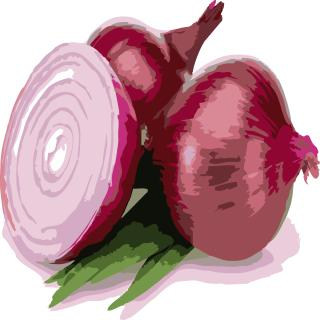Bawang Merah: (2, 2, 319, 312), (1, 42, 141, 283), (161, 55, 320, 263)
